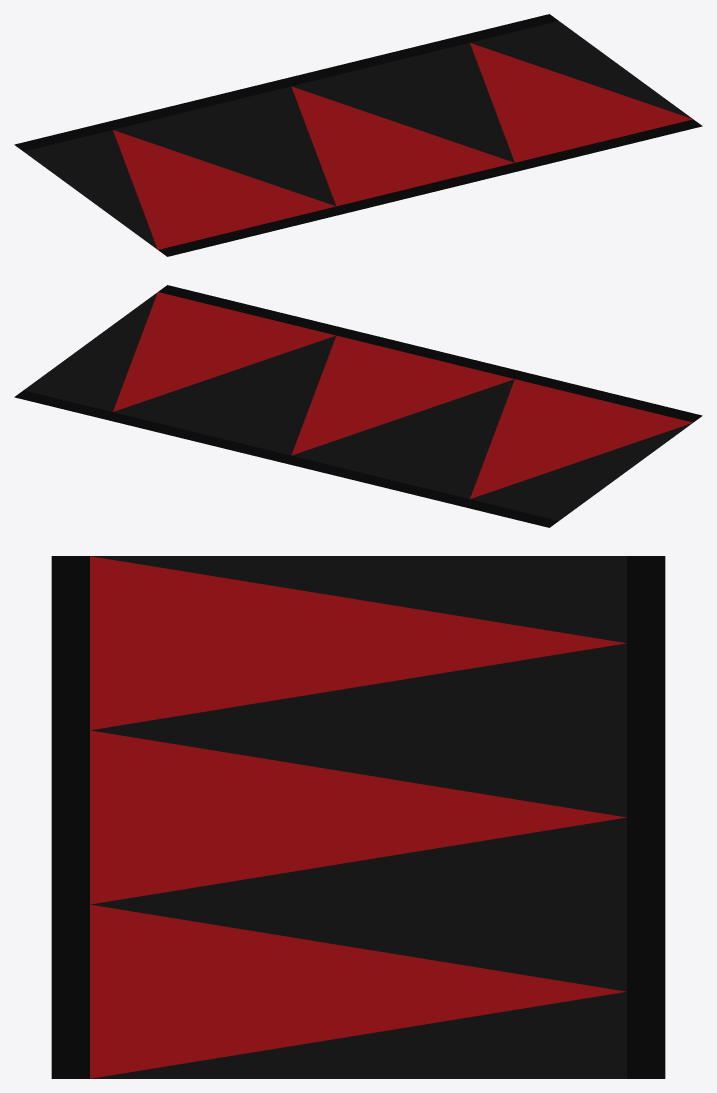
The model's file is HellPlatform.fbx.
The picture shows the model from 3 angles, top to bottom: view 1: azimuth 30°, elevation 25°; view 2: azimuth 150°, elevation 25°; view 3: azimuth 270°, elevation 25°; orthographic projection. The views are drawn at different scales.
Parts seen in each view (by area): view 1: Plane; view 2: Plane; view 3: Plane.
Boxes of the visible parts, left/top/right/bottom form: Plane: left=14, top=14, right=702, bottom=256; Plane: left=14, top=285, right=702, bottom=527; Plane: left=51, top=556, right=665, bottom=1078.
Size of the model in its own units: 403 by 3.26e-05 by 200.
